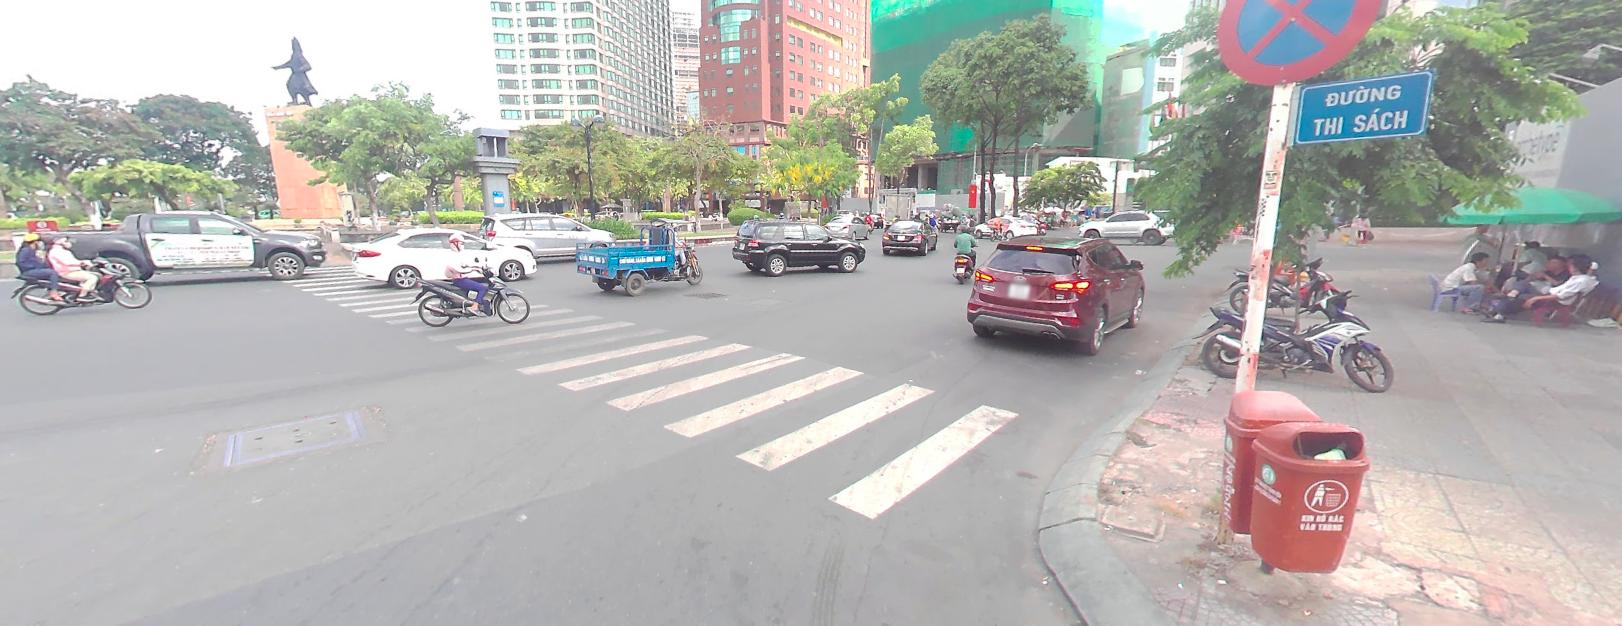Cam dung va do: (1216, 0, 1381, 88)
